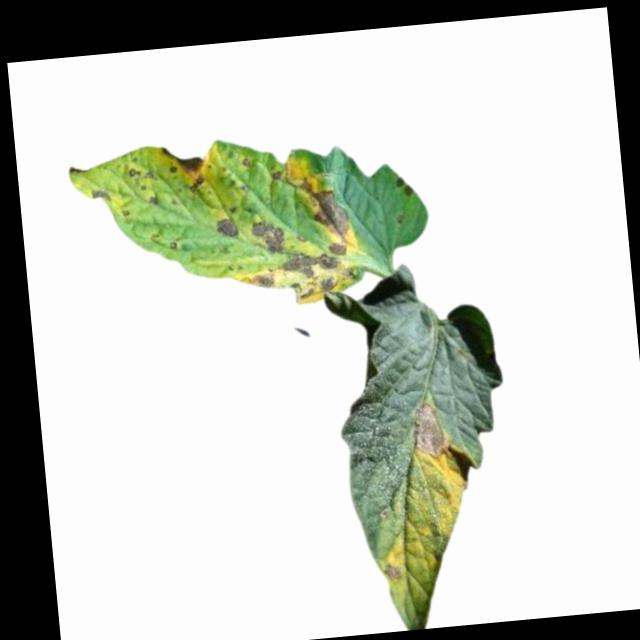Early_blight: (241, 238, 357, 310), (296, 172, 354, 242), (160, 142, 209, 193), (406, 400, 449, 456), (250, 215, 291, 251), (216, 213, 239, 239), (127, 161, 155, 180), (382, 562, 408, 581), (395, 174, 413, 195), (88, 186, 110, 201), (147, 190, 161, 206), (272, 167, 283, 180)
